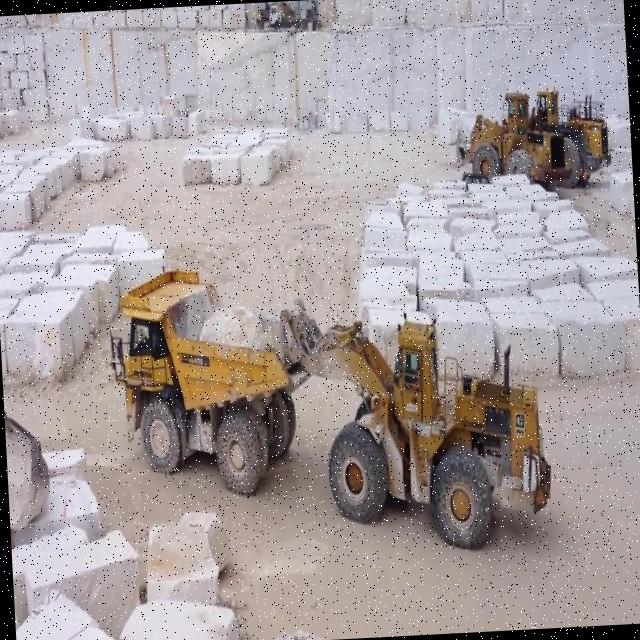Dump Truck: (101, 255, 327, 508), (262, 0, 319, 30)
Loader: (260, 294, 557, 566), (450, 90, 568, 186), (527, 72, 614, 192)
